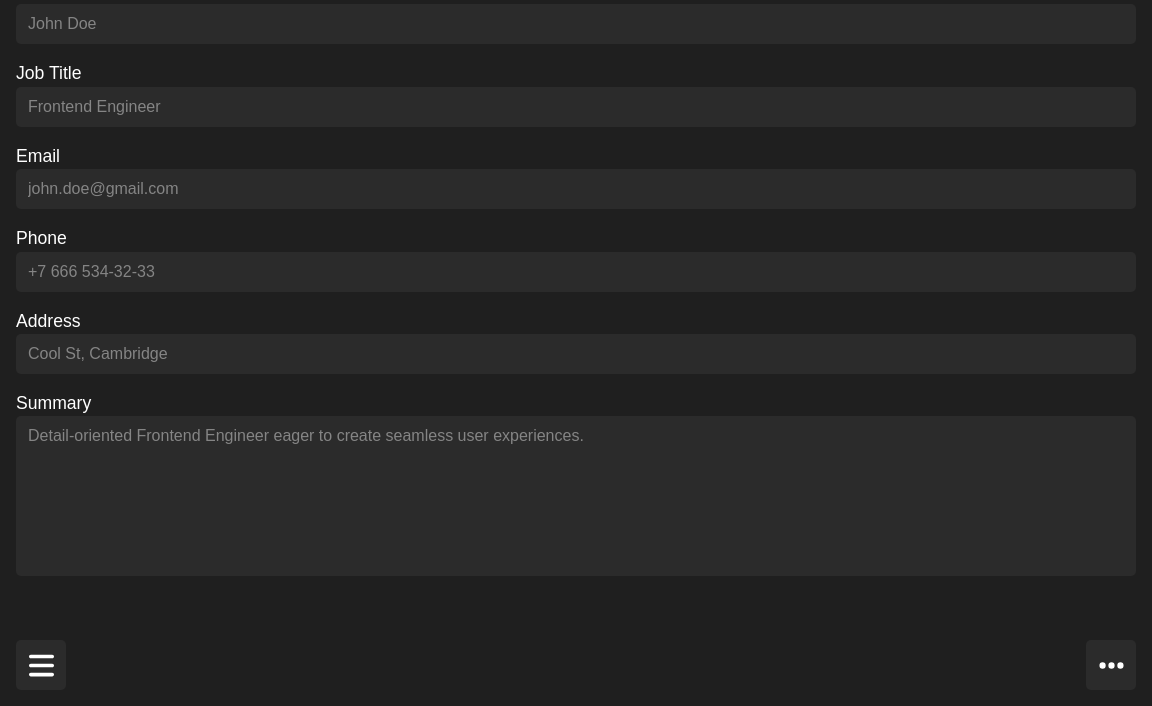
Test: App › AppLayout › "Toggle Navigation" button › should toggle the navbar on
(page scrolled)
Click the button named "Navigation" at (41, 665), box [16,640,66,690]
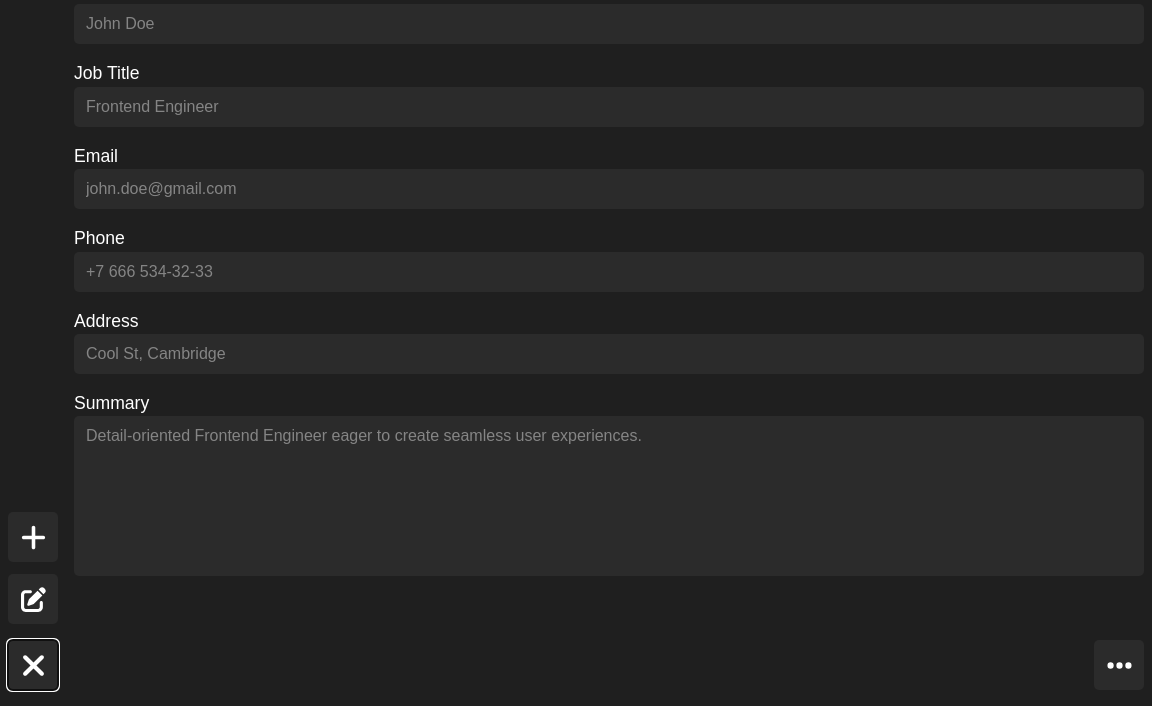
Check: the button named "Navigation" is expanded, box [8,640,58,690]
